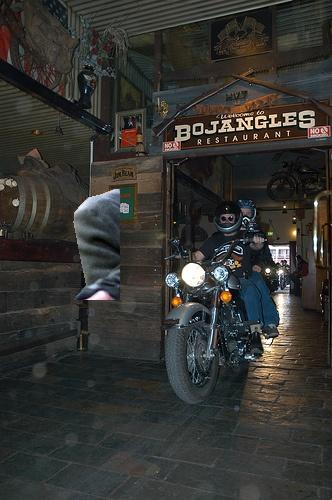tampered: (74, 190, 120, 300)
